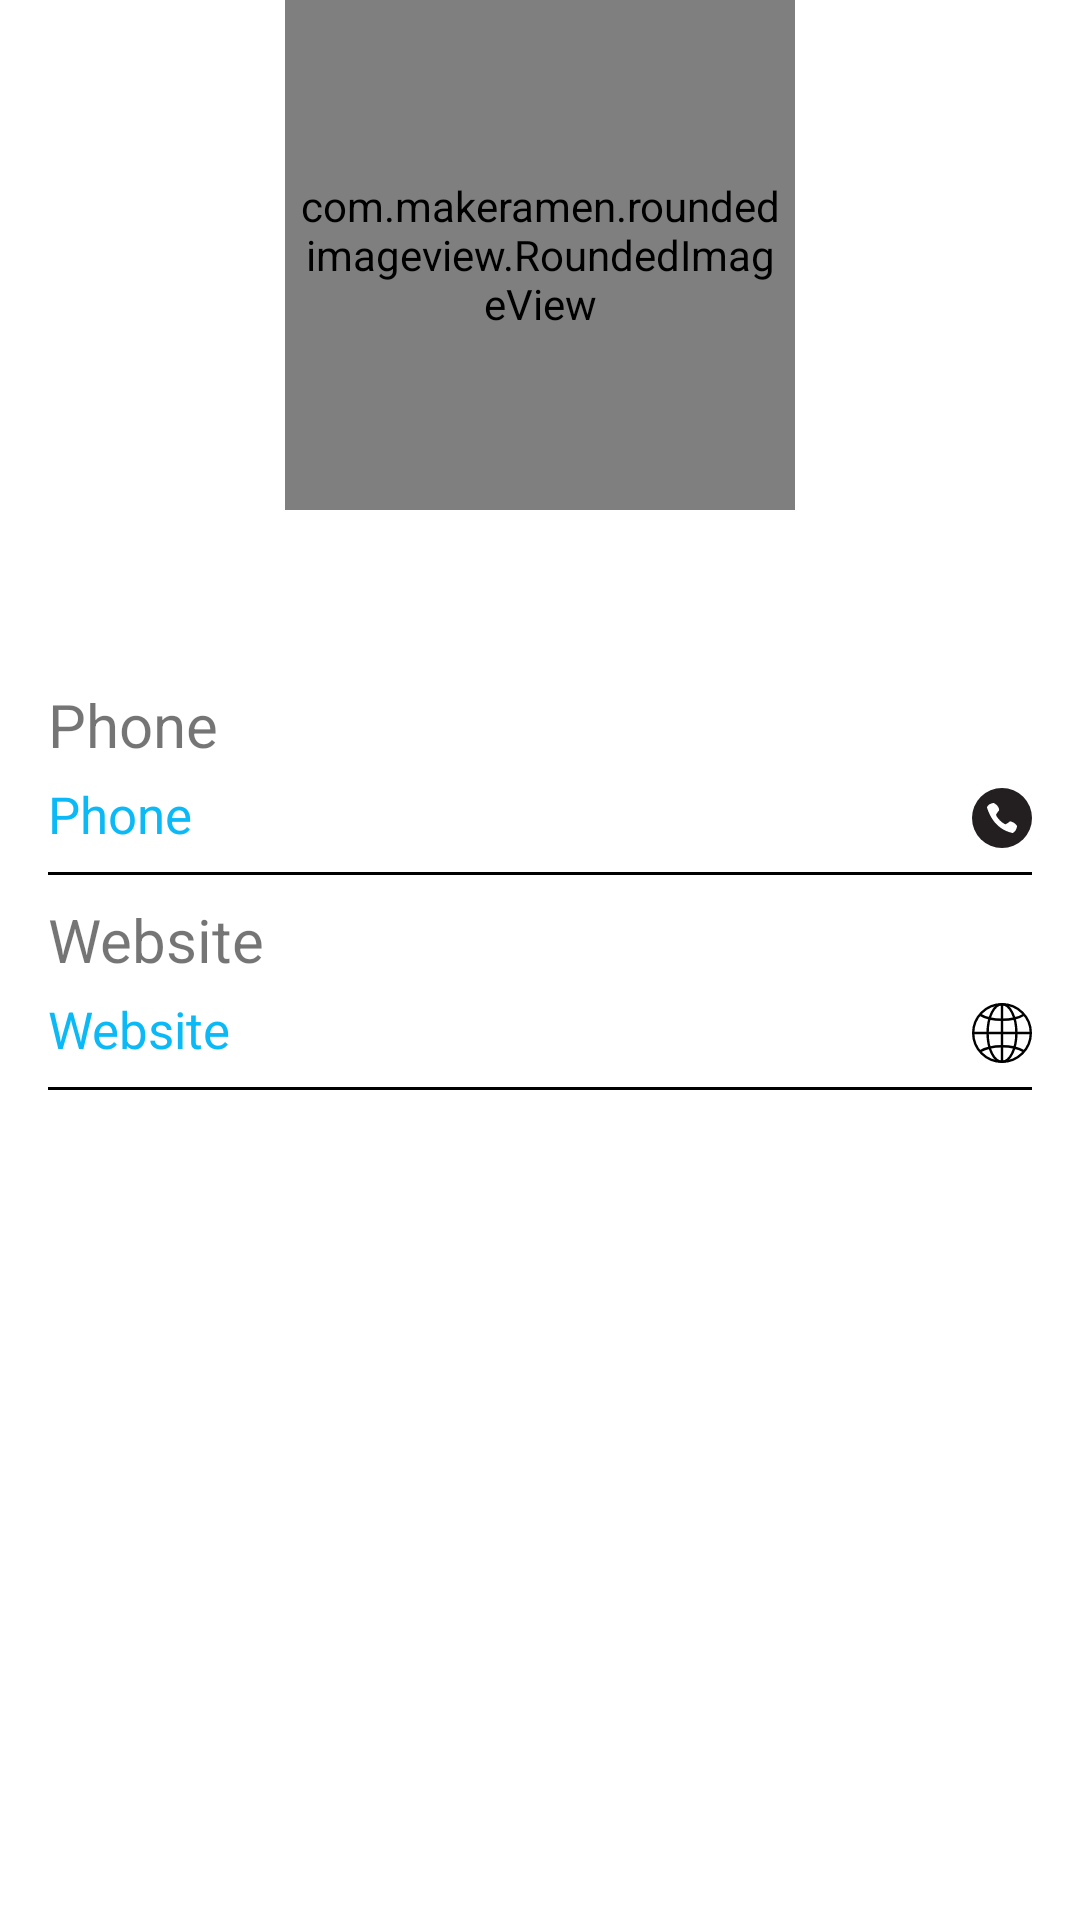

Locate icon controls on the screen. Image size 1080px x 1920px, boxes as {"x1": x1, "y1": y1, "x2": x2, "y2": y2}.
call: {"x1": 972, "y1": 788, "x2": 1032, "y2": 848}
website: {"x1": 972, "y1": 1003, "x2": 1032, "y2": 1063}
